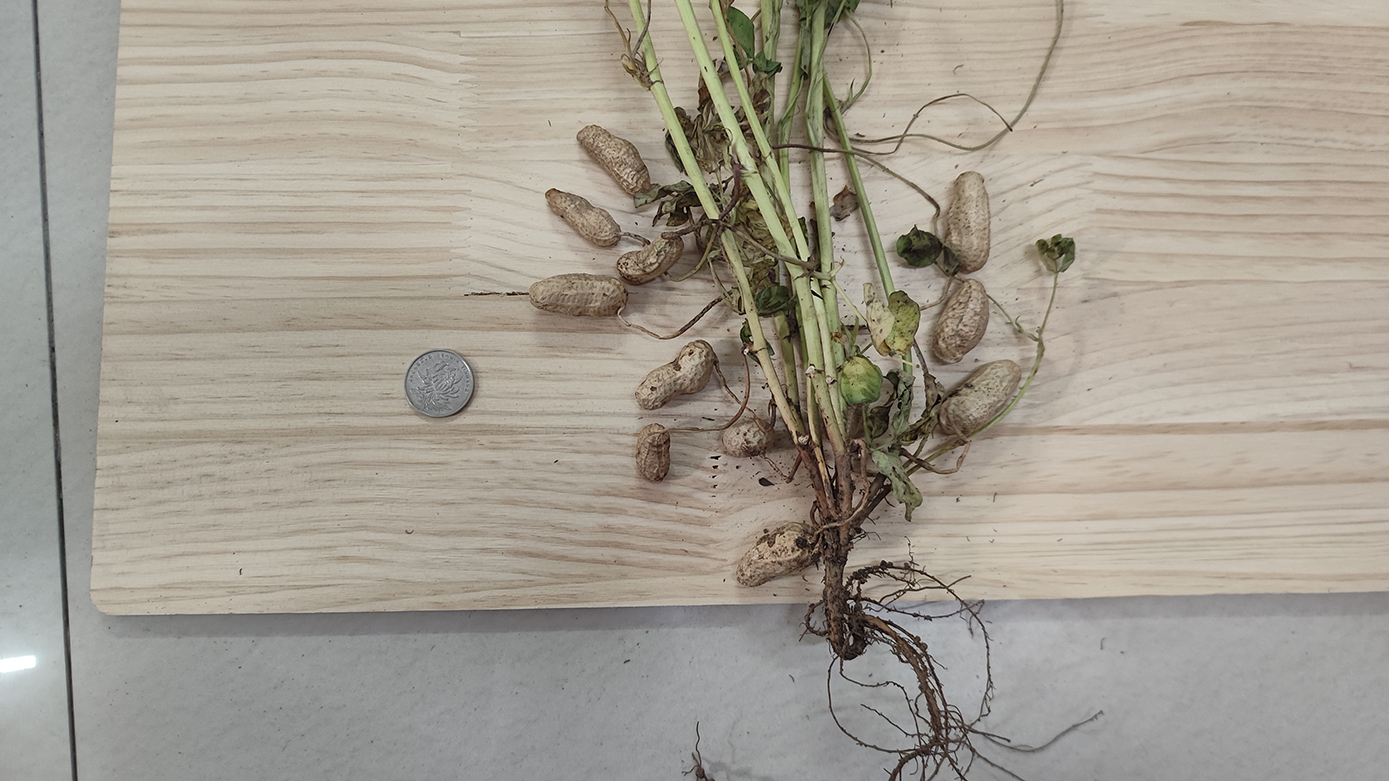h: (939, 360, 1020, 437), (635, 340, 715, 409), (576, 124, 652, 195), (736, 523, 817, 586), (944, 171, 992, 274), (931, 279, 989, 364), (544, 187, 622, 247), (528, 273, 629, 318), (617, 236, 685, 284), (636, 424, 672, 482), (720, 420, 776, 456)
